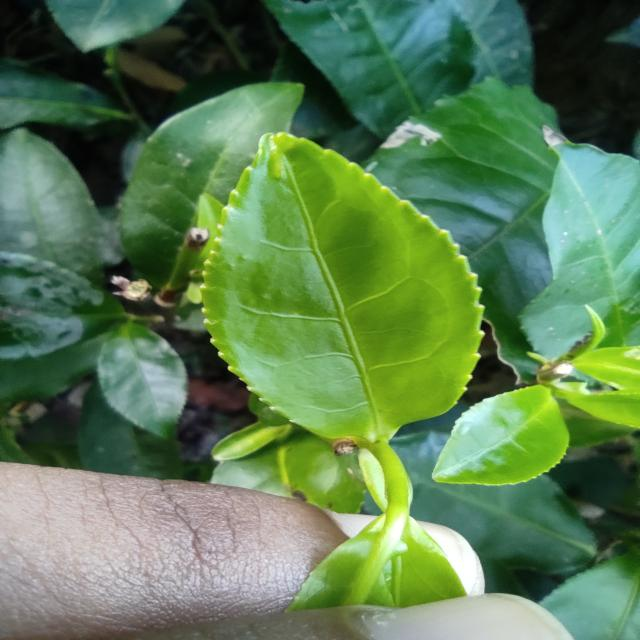Category C 4-7 days: (167, 100, 527, 456)
